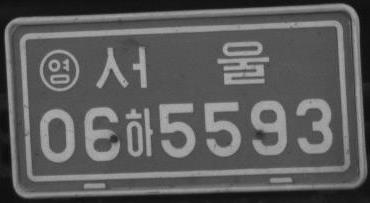0: (37, 107, 77, 164)
3: (295, 97, 334, 155)
5: (202, 100, 242, 158), (157, 101, 195, 159)
6: (82, 105, 122, 162)
9: (249, 99, 288, 156)
서울_D: (93, 40, 270, 90)
영: (38, 47, 79, 92)
하: (124, 106, 153, 157)
